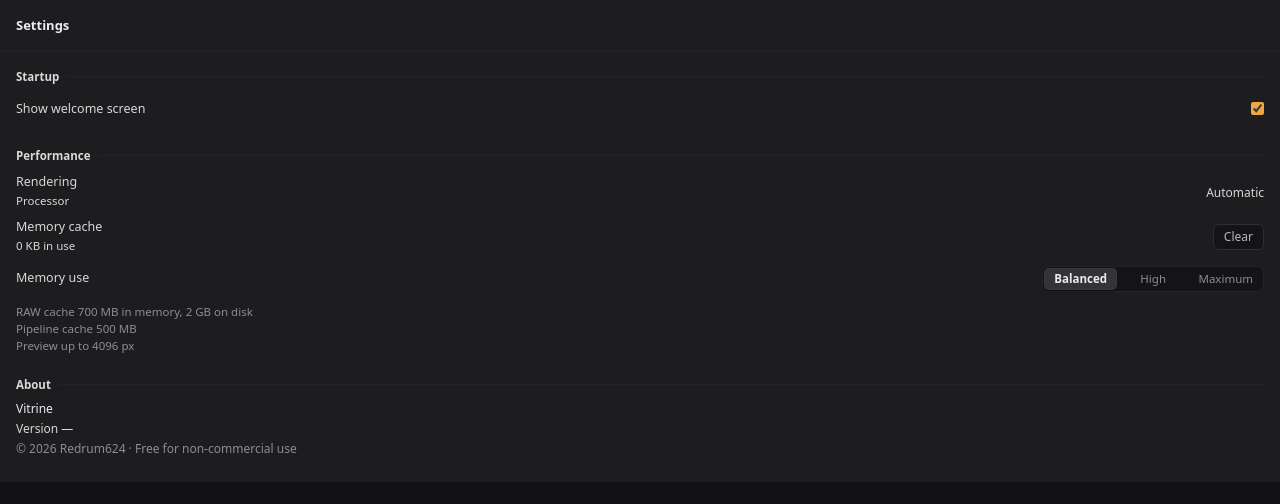
Test case: SettingsPanel — memory preset › a pick made before the mount-time load resolves wins over the stale stored value
Click the tab "High" at (1153, 279), box x1=1117 y1=268 x2=1189 y2=290
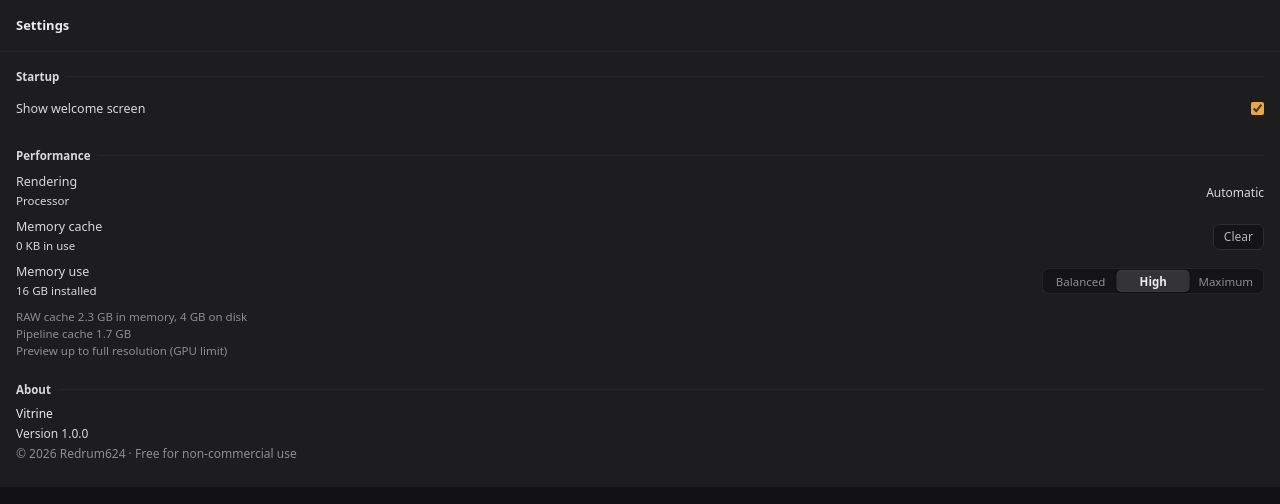
Expected: the text "16 GB installed" is shown, x1=16 y1=282 x2=97 y2=300
Expected: the list named "Memory budgets" shows "2.3 GB in memory, 4 GB on disk", x1=16 y1=308 x2=247 y2=324
